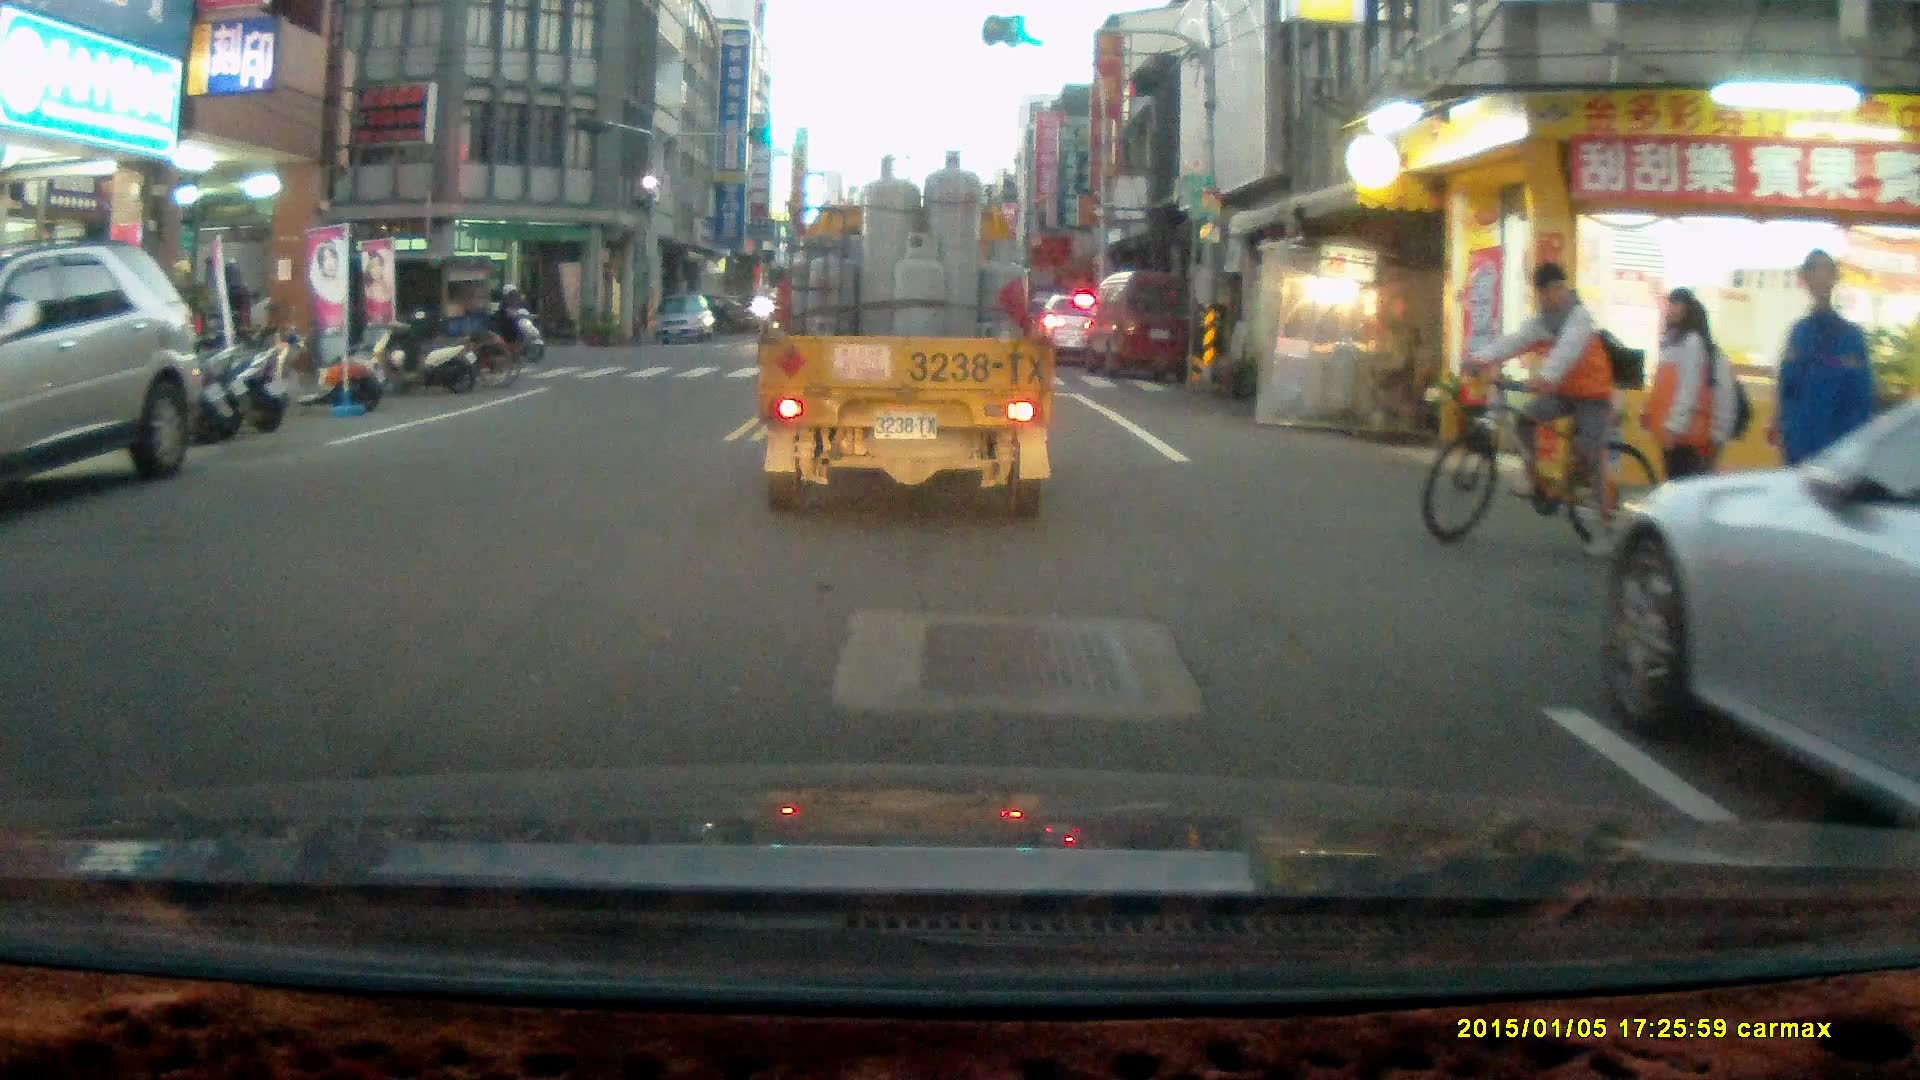pedestrian: (1770, 248, 1876, 571), (1642, 285, 1717, 556), (218, 261, 254, 370)
rider: (1422, 262, 1657, 557), (472, 282, 538, 368)
vehicle: (1598, 388, 1920, 828), (753, 161, 1041, 519), (1, 245, 206, 506), (333, 248, 495, 364), (1086, 267, 1201, 382), (1037, 293, 1103, 363), (652, 292, 720, 350)
